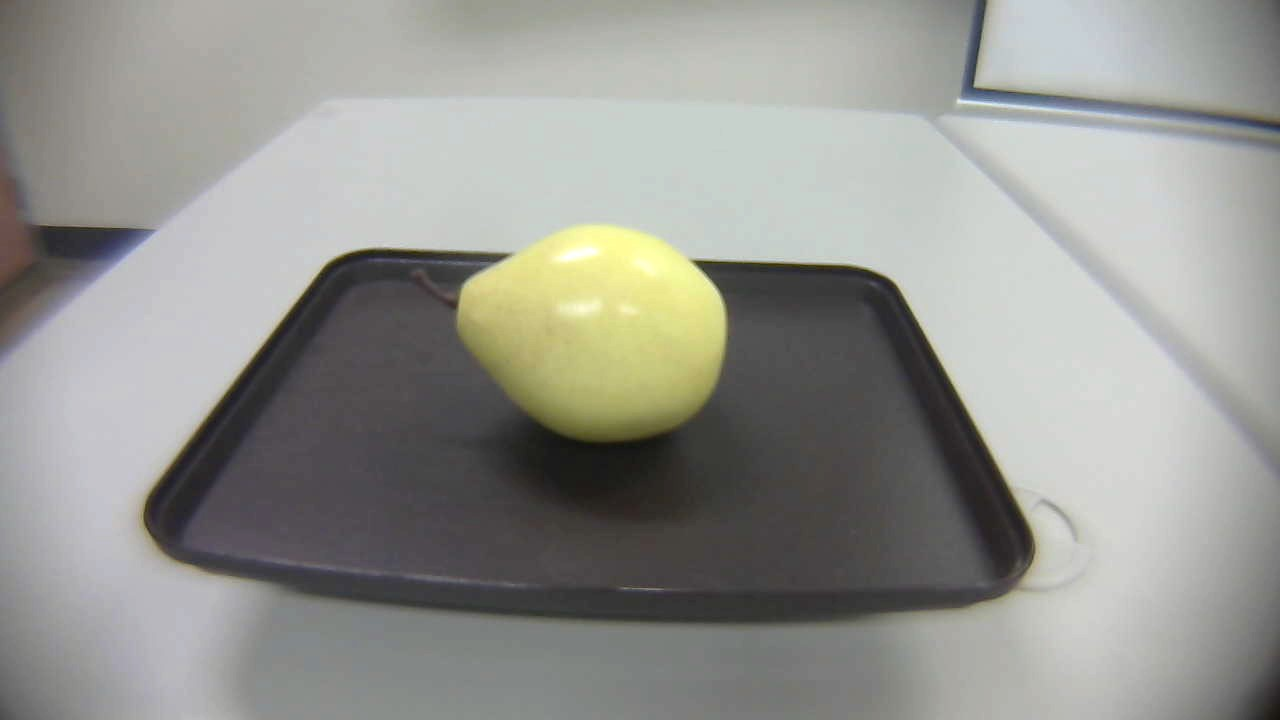western pear: (396, 216, 746, 453)
